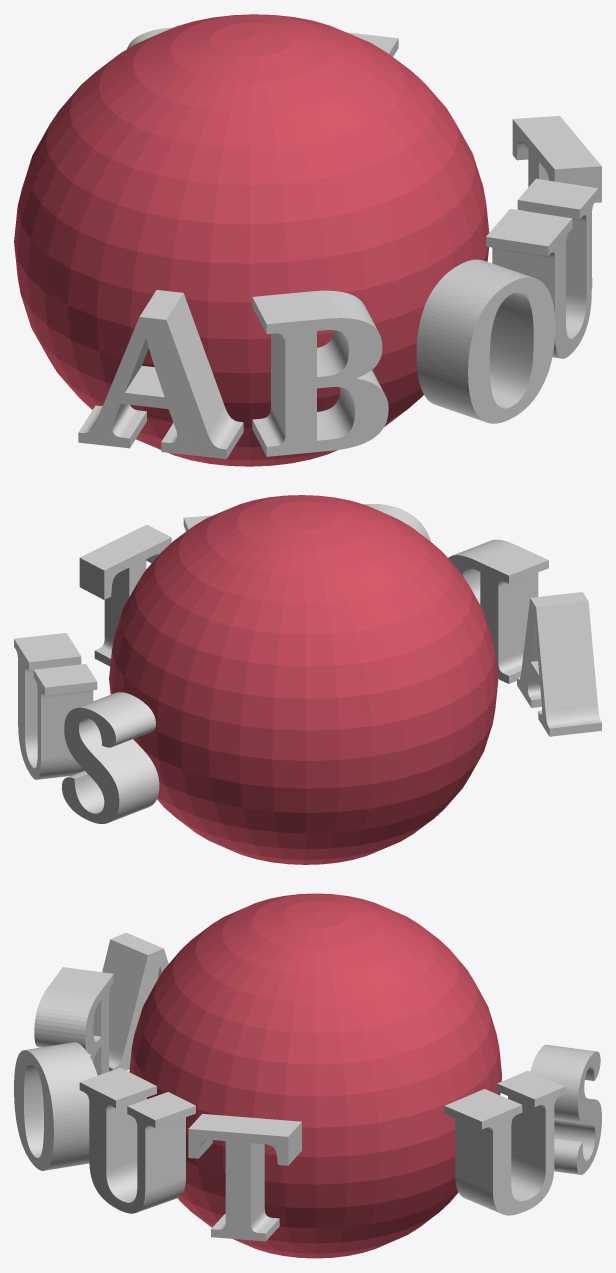
The model's file is about.glb.
3 renders of one model, top to bottom at view 1: azimuth 30°, elevation 25°; view 2: azimuth 150°, elevation 25°; view 3: azimuth 270°, elevation 25°, orthographic. The views are drawn at different scales.
Parts seen in each view (by area): view 1: Mesh_Mesh_head_geo.001_lambert2SG.001; view 2: Mesh_Mesh_head_geo.001_lambert2SG.001; view 3: Mesh_Mesh_head_geo.001_lambert2SG.001.
Boxes of the visible parts, x1,y1,x2,y2 form: Mesh_Mesh_head_geo.001_lambert2SG.001: (14,14,601,466); Mesh_Mesh_head_geo.001_lambert2SG.001: (14,495,601,864); Mesh_Mesh_head_geo.001_lambert2SG.001: (14,893,601,1258).
Size of the model in its own units: 87.65 by 61 by 99.25.
